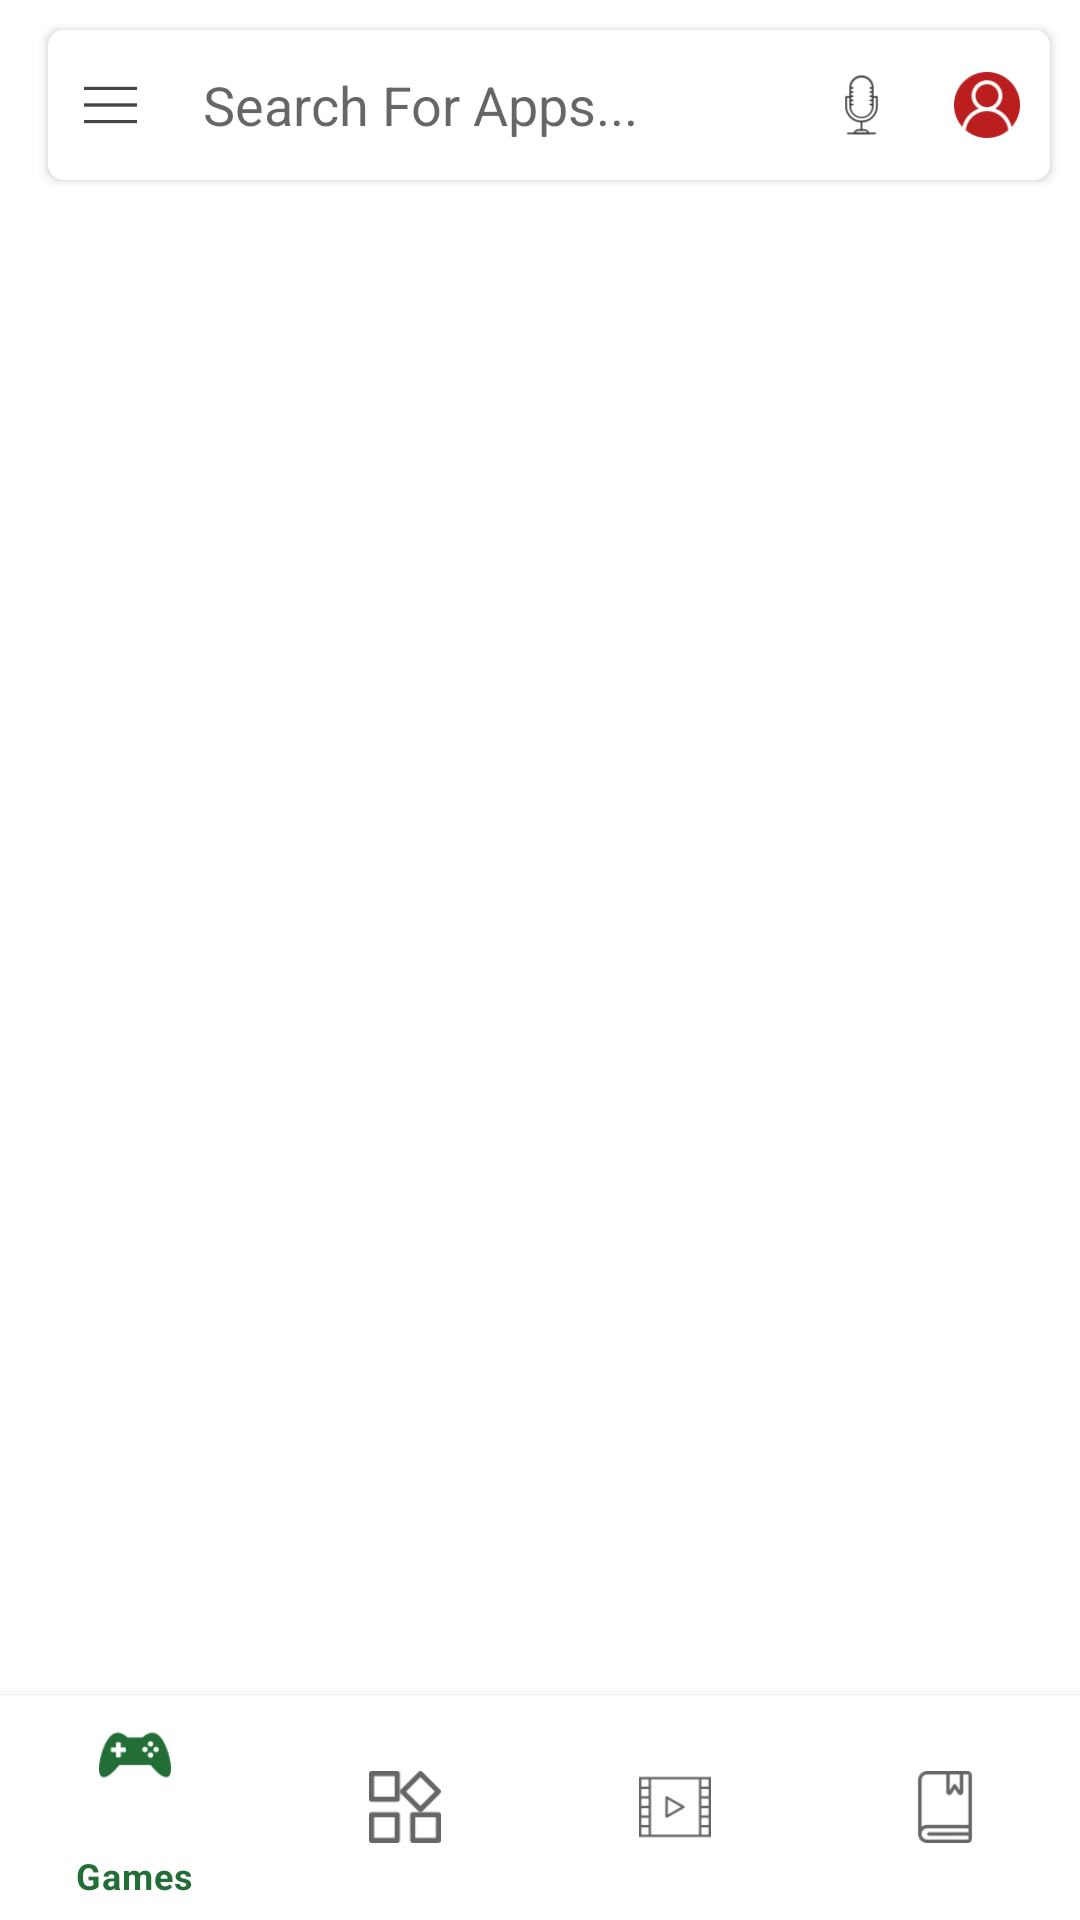

Named icons in this screenshot (1080w x 1920h) and their centers, (x=x, y=y):
mike: (x=861, y=105)
user: (x=1002, y=105)
